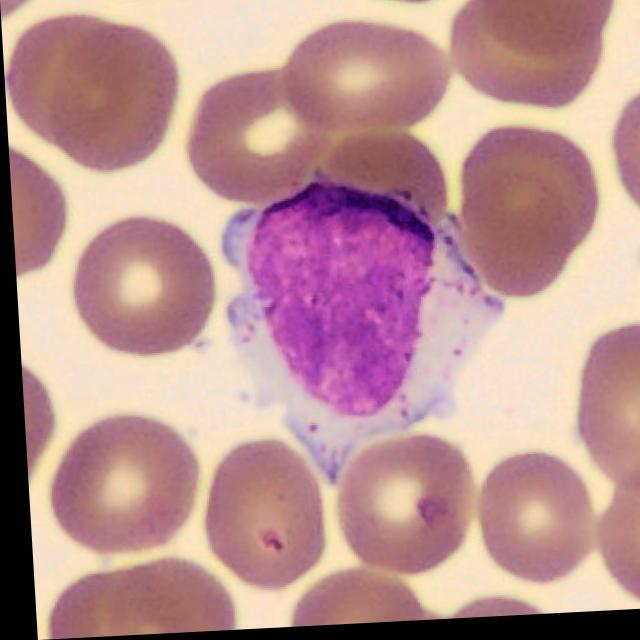Linfocito atipico: (223, 182, 499, 485)
